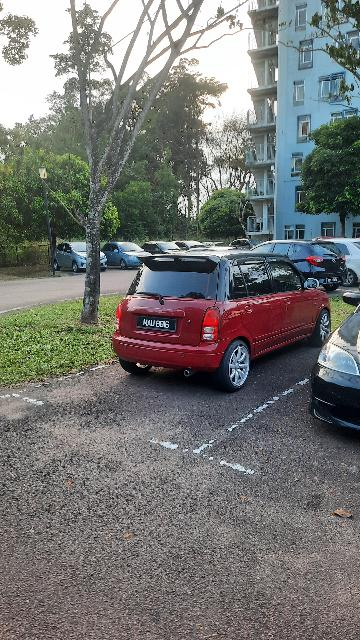License_Plate: (137, 316, 179, 335)
car: (112, 250, 341, 392)
